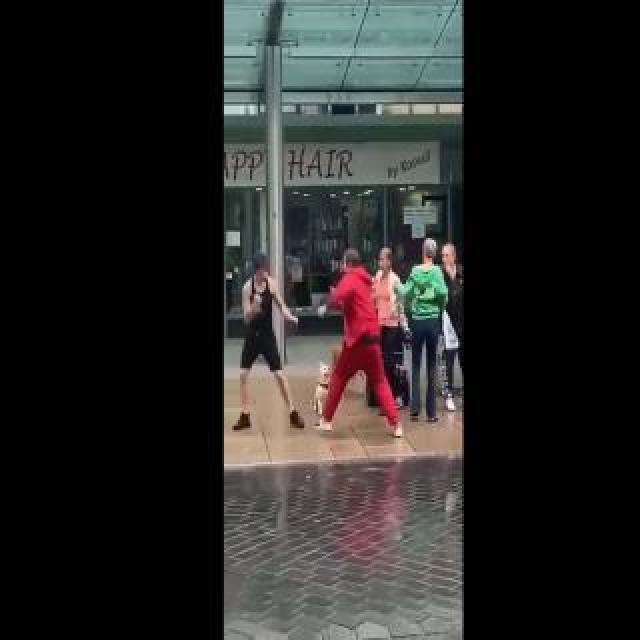fight: (221, 243, 393, 453)
